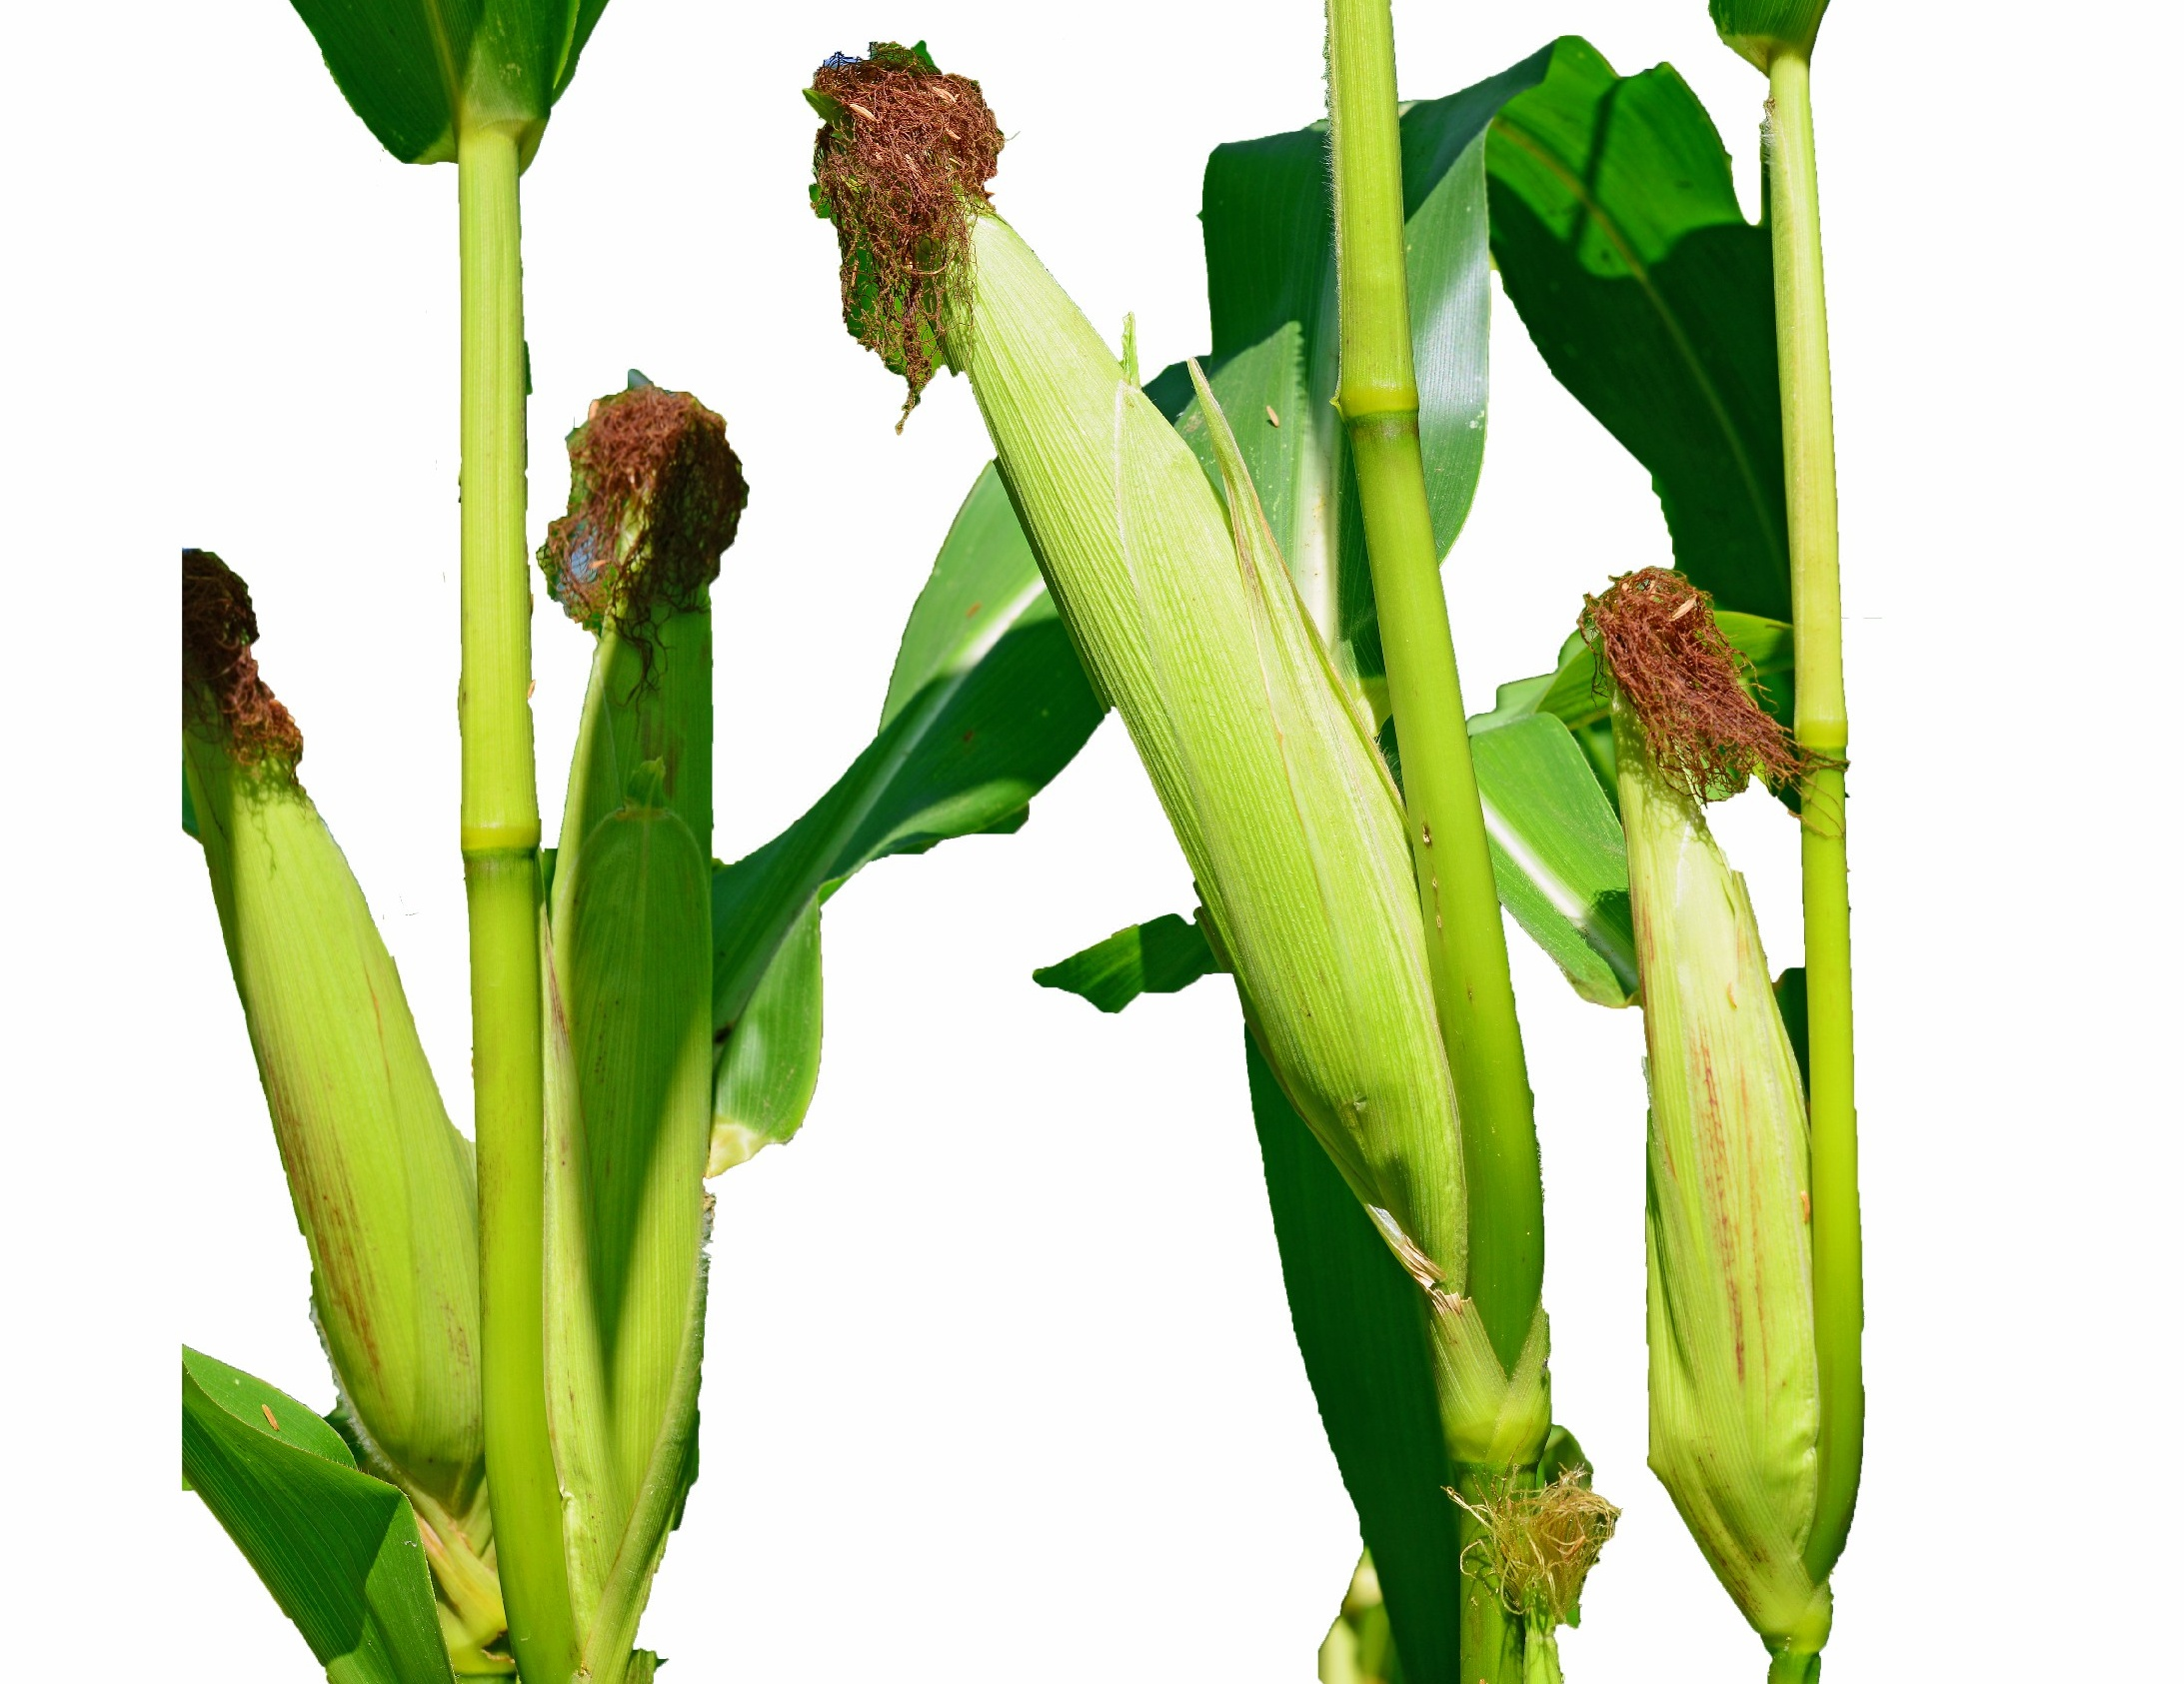corn_plant: (803, 16, 1546, 1438), (1562, 552, 1899, 1652), (186, 545, 518, 1603), (538, 382, 785, 1680)
